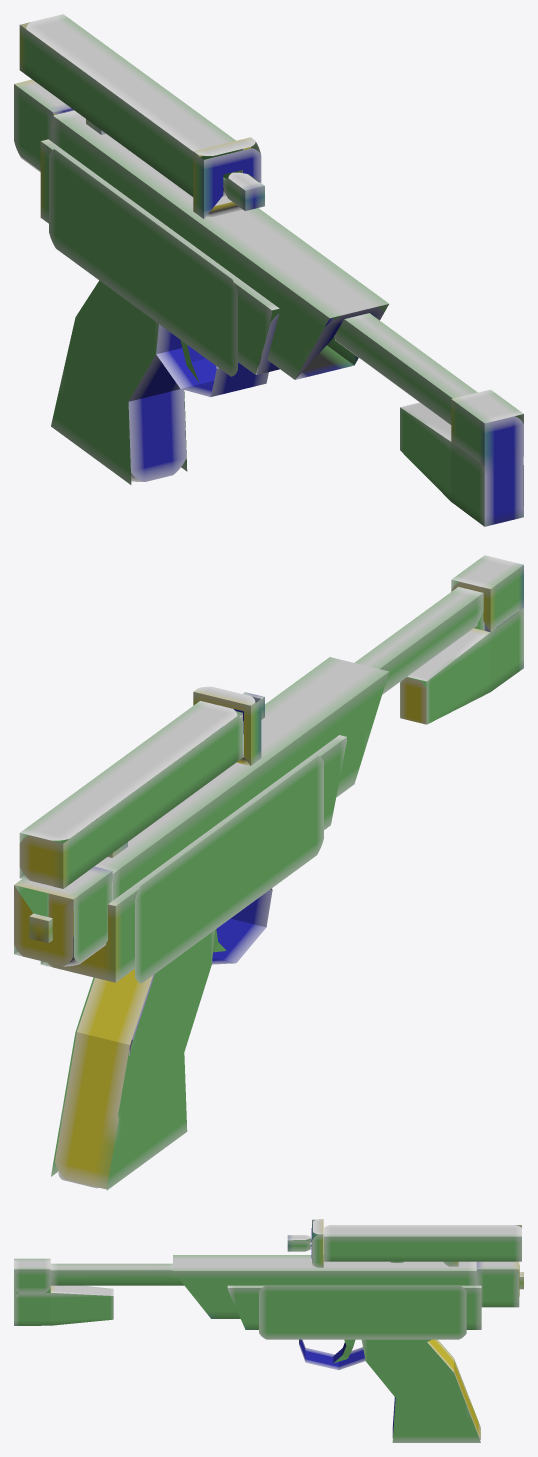
3 views of the same model, one above another, from view 1: azimuth 30°, elevation 25°; view 2: azimuth 150°, elevation 25°; view 3: azimuth 270°, elevation 25° (orthographic). The views are drawn at different scales.
Visible parts, largest first — view 1: pPlane8 dl18model_polySurface1; view 2: pPlane8 dl18model_polySurface1; view 3: pPlane8 dl18model_polySurface1.
Part boxes in pixels (x1,y1,x2,y2): pPlane8 dl18model_polySurface1: (14, 14, 523, 526); pPlane8 dl18model_polySurface1: (14, 555, 523, 1190); pPlane8 dl18model_polySurface1: (14, 1219, 523, 1442).
Size of the model in its own units: 0.4338 by 1.78 by 3.95.
